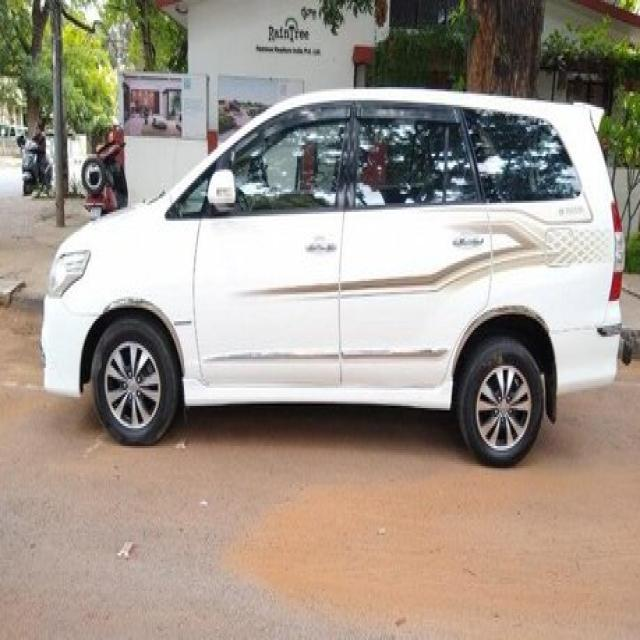light_vehicle: (40, 88, 632, 467)
